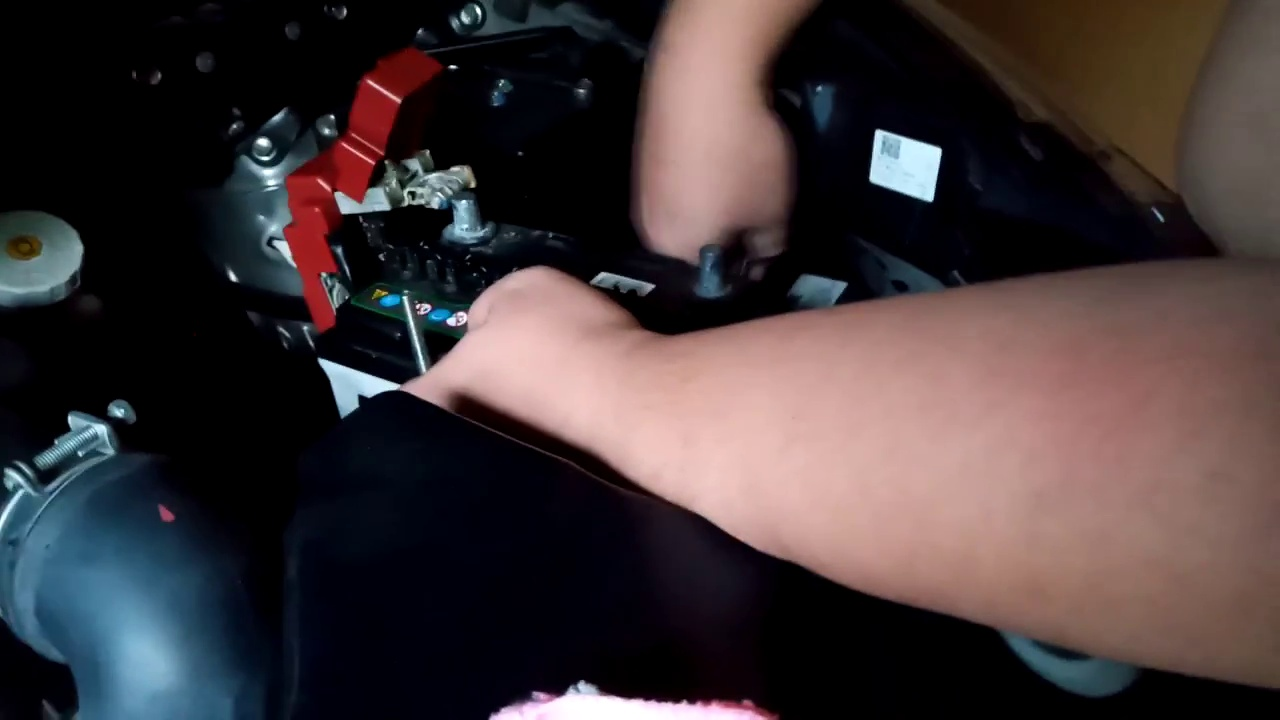battery: (302, 171, 775, 400)
neg_disconnected: (647, 239, 777, 312)
neg_touched: (607, 154, 796, 320)
pos_disconnected: (269, 100, 524, 282)
